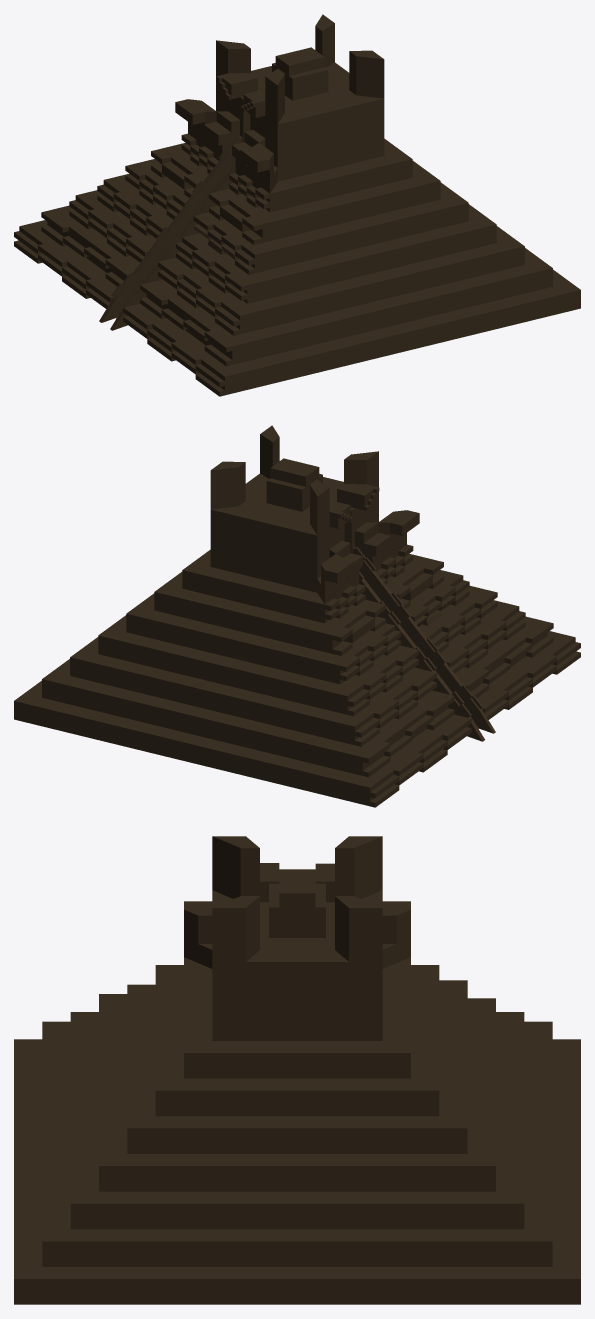
The picture shows the model from 3 angles, top to bottom: view 1: azimuth 30°, elevation 25°; view 2: azimuth 150°, elevation 25°; view 3: azimuth 270°, elevation 25°; orthographic projection. The views are drawn at different scales.
Parts seen in each view (by area): view 1: PYRAMID; view 2: PYRAMID; view 3: PYRAMID.
Boxes of the visible parts, x1,y1,x2,y2 form: PYRAMID: (14, 14, 580, 396); PYRAMID: (14, 425, 580, 807); PYRAMID: (14, 836, 580, 1304).
Bounding box in the file's own units: 418 × 246 × 400.
